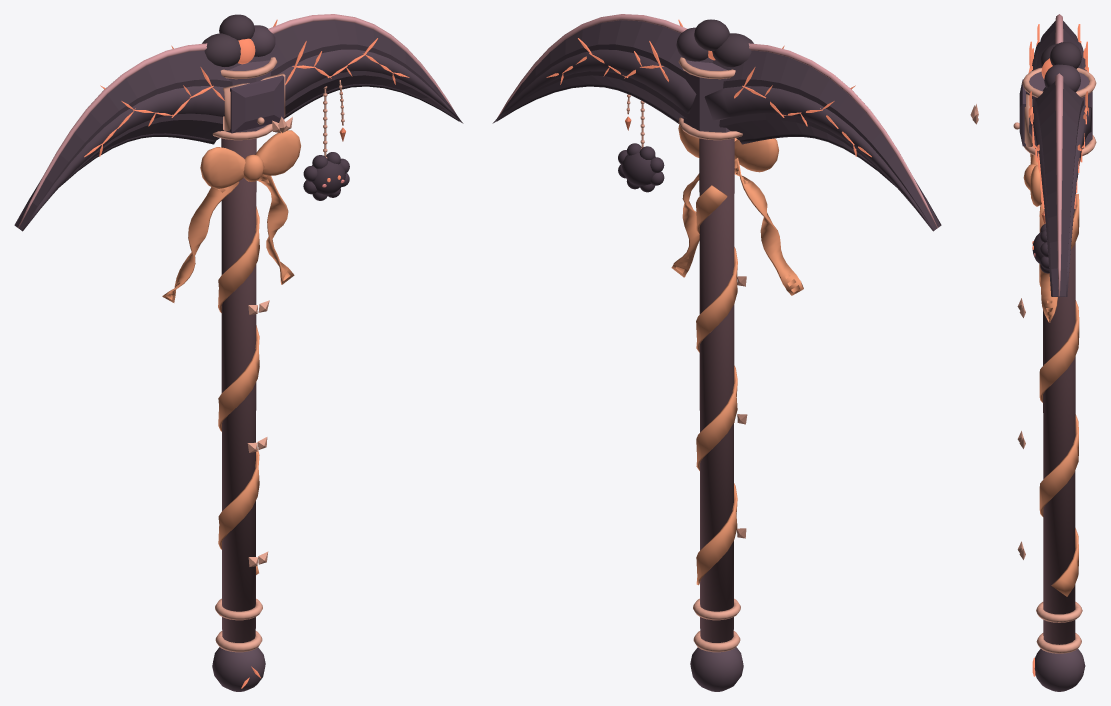
The model's file is AshcoalPickaxe.glb.
The picture shows the model from 3 angles, left to right: view 1: azimuth 30°, elevation 25°; view 2: azimuth 150°, elevation 25°; view 3: azimuth 270°, elevation 25°; orthographic projection. The views are drawn at different scales.
Visible parts, largest first — view 1: AshcoalPickaxe_SmoothPlastic, AshcoalPickaxe_Metal, AshcoalPickaxe_Neon; view 2: AshcoalPickaxe_SmoothPlastic, AshcoalPickaxe_Metal, AshcoalPickaxe_Neon; view 3: AshcoalPickaxe_SmoothPlastic, AshcoalPickaxe_Metal, AshcoalPickaxe_Neon.
Boxes of the visible parts, x1,y1,x2,y2 form: AshcoalPickaxe_SmoothPlastic: [14, 14, 463, 691]; AshcoalPickaxe_Metal: [212, 57, 344, 652]; AshcoalPickaxe_Neon: [84, 19, 409, 688]; AshcoalPickaxe_SmoothPlastic: [492, 14, 941, 691]; AshcoalPickaxe_Metal: [626, 57, 747, 652]; AshcoalPickaxe_Neon: [546, 19, 871, 157]; AshcoalPickaxe_SmoothPlastic: [1019, 14, 1092, 691]; AshcoalPickaxe_Metal: [970, 67, 1096, 653]; AshcoalPickaxe_Neon: [1028, 24, 1088, 676].
Size of the model in its own units: 3.03 by 4.39 by 0.7757.
Materials: 4 (4 with a texture image).
